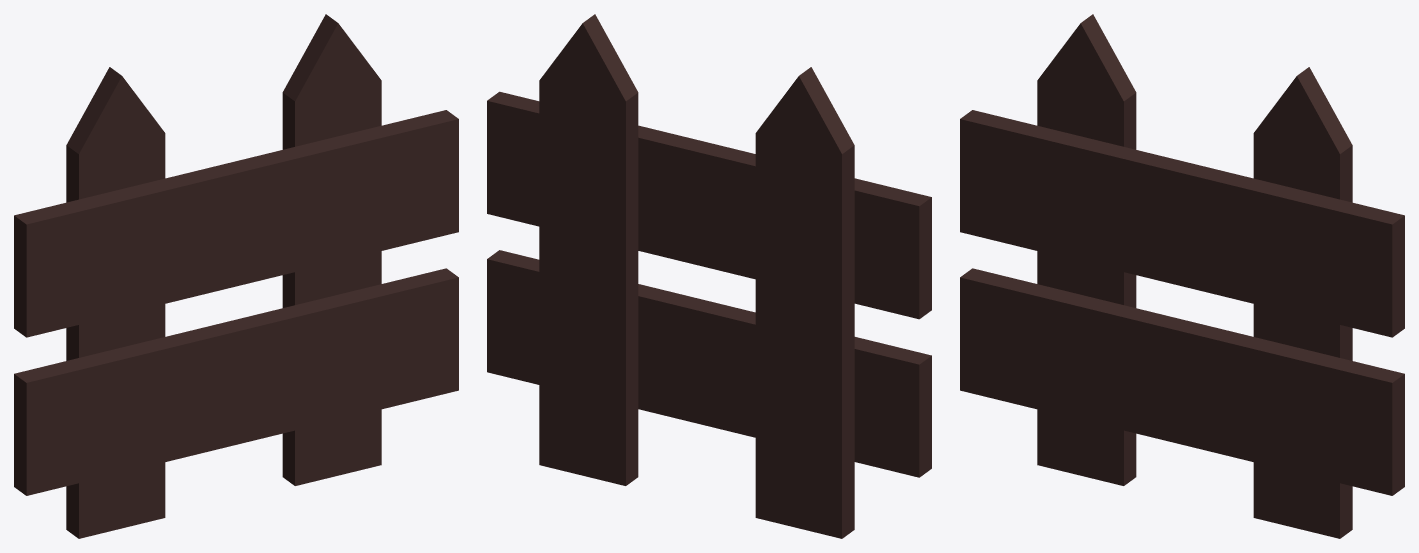
File: fence_short.fbx
3 views of the same model, side by side, from view 1: azimuth 30°, elevation 25°; view 2: azimuth 150°, elevation 25°; view 3: azimuth 330°, elevation 25° (orthographic).
Visible parts, largest first — view 1: Fence_Short; view 2: Fence_Short; view 3: Fence_Short.
Boxes of the visible parts, <box> form: Fence_Short: <box>14,14,458,538</box>; Fence_Short: <box>487,14,931,538</box>; Fence_Short: <box>960,14,1404,538</box>.
Bounding box in the file's own units: 200 × 200 × 20.
